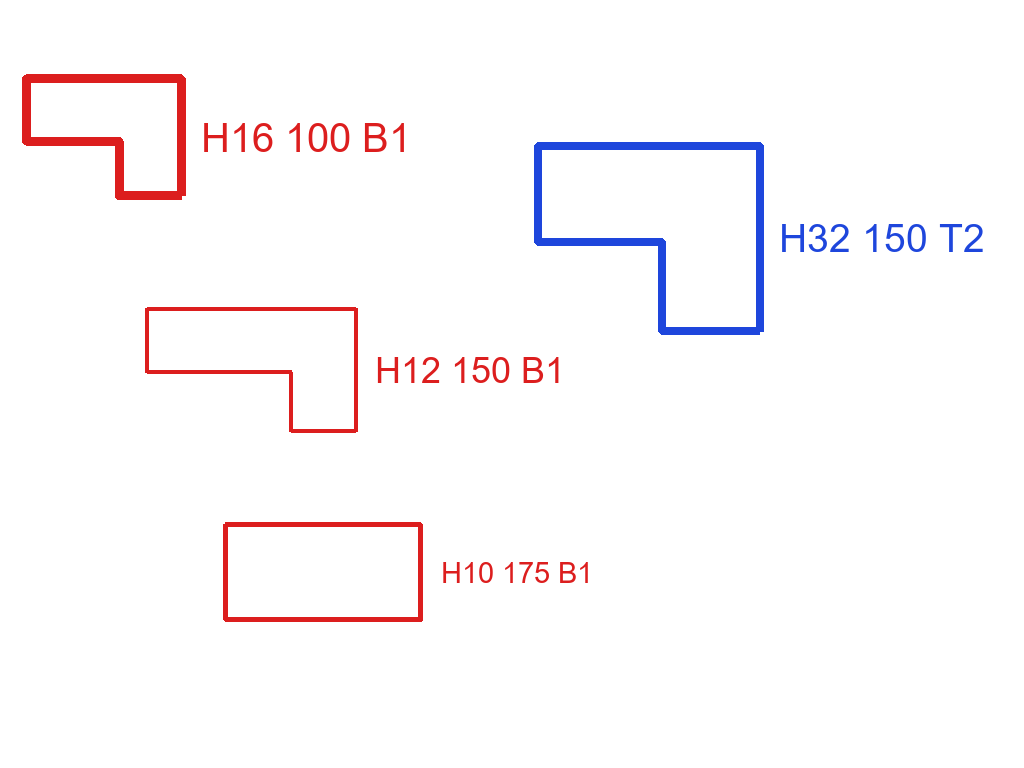shape: (533, 139, 765, 337), (144, 305, 359, 435), (20, 72, 188, 202), (221, 520, 425, 624)
text: (199, 121, 413, 154), (777, 222, 987, 254), (373, 355, 567, 385), (439, 560, 595, 585)
